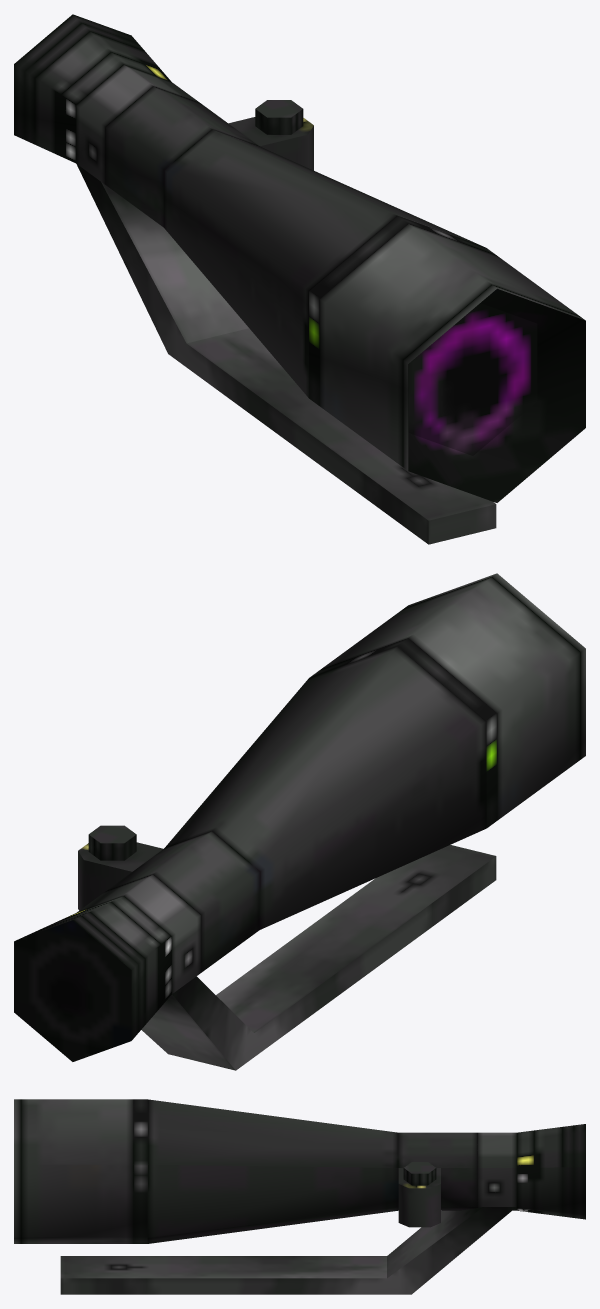
Rendered from wp_scope_lg_s04_l0.fbx.
3 views of the same model, one above another, from view 1: azimuth 30°, elevation 25°; view 2: azimuth 150°, elevation 25°; view 3: azimuth 270°, elevation 25° (orthographic). The views are drawn at different scales.
Visible parts, largest first — view 1: mesh_node; view 2: mesh_node; view 3: mesh_node.
Part boxes in pixels (box(x1,y1,x2,y2)): mesh_node: box(14, 14, 585, 544); mesh_node: box(14, 573, 585, 1070); mesh_node: box(14, 1099, 585, 1294).
Bounding box in the file's own units: 0.0481 × 0.0631 × 0.1777.
